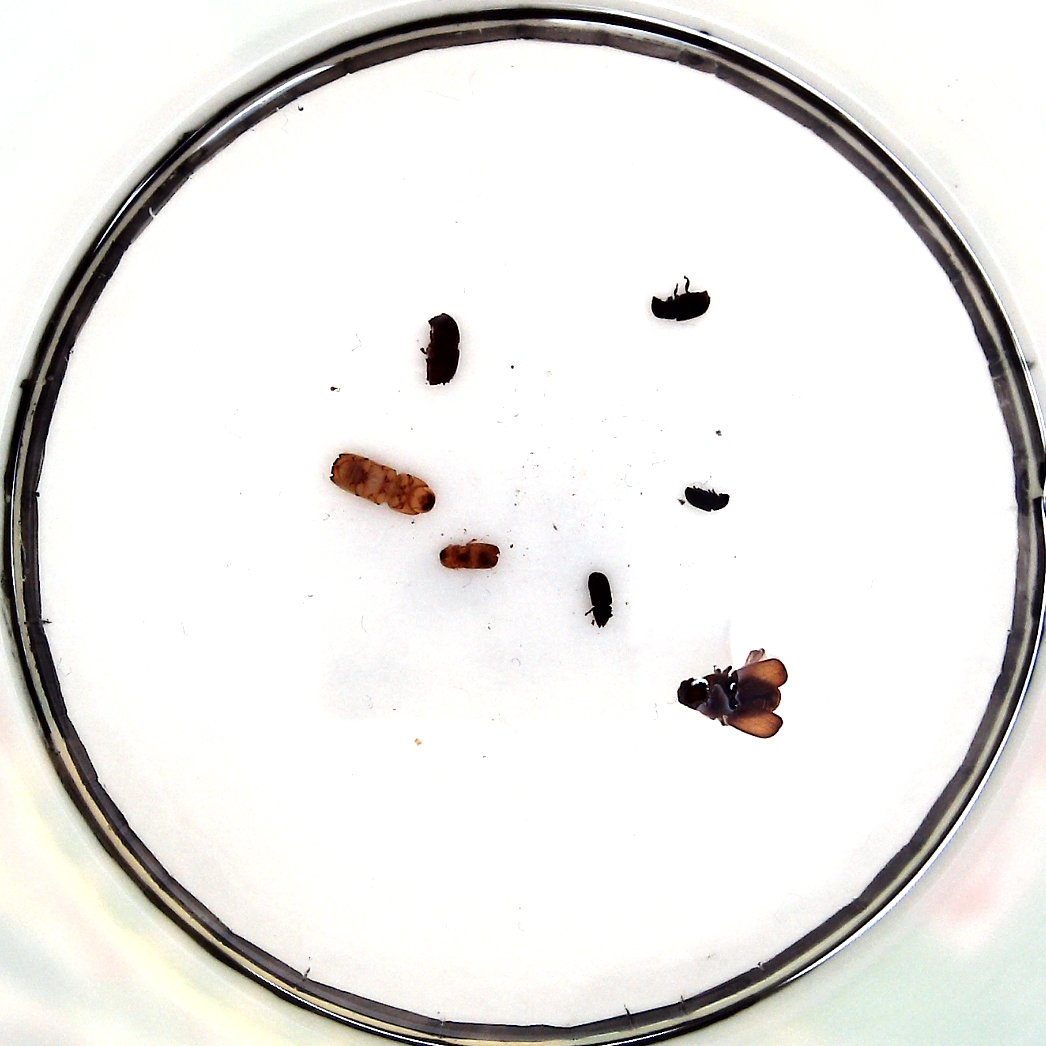Boerner: (327, 453, 432, 516)
Leconte: (681, 653, 789, 739)
Linnaeus: (427, 314, 459, 387)
acuminatus: (436, 539, 499, 572)
armandi: (648, 286, 709, 324)
coleoptera: (683, 481, 730, 514), (587, 566, 611, 629)
